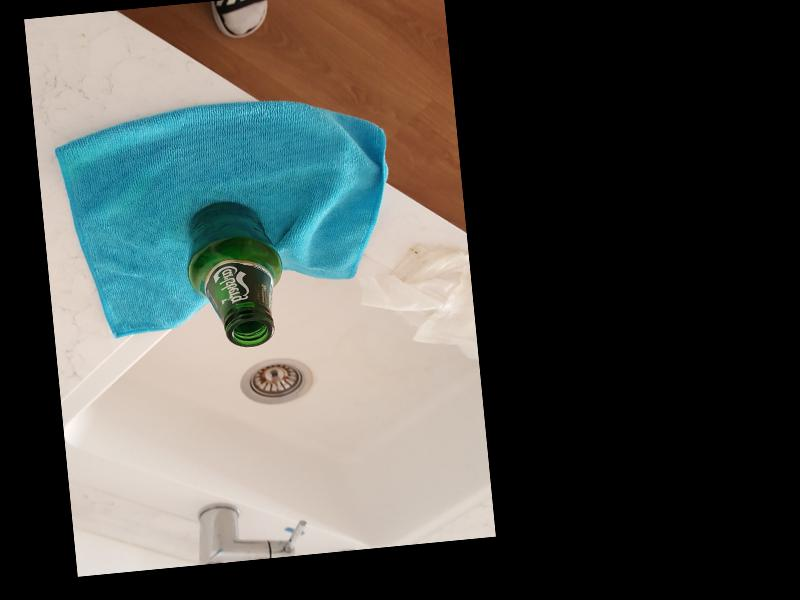Beer: (185, 195, 289, 350)
